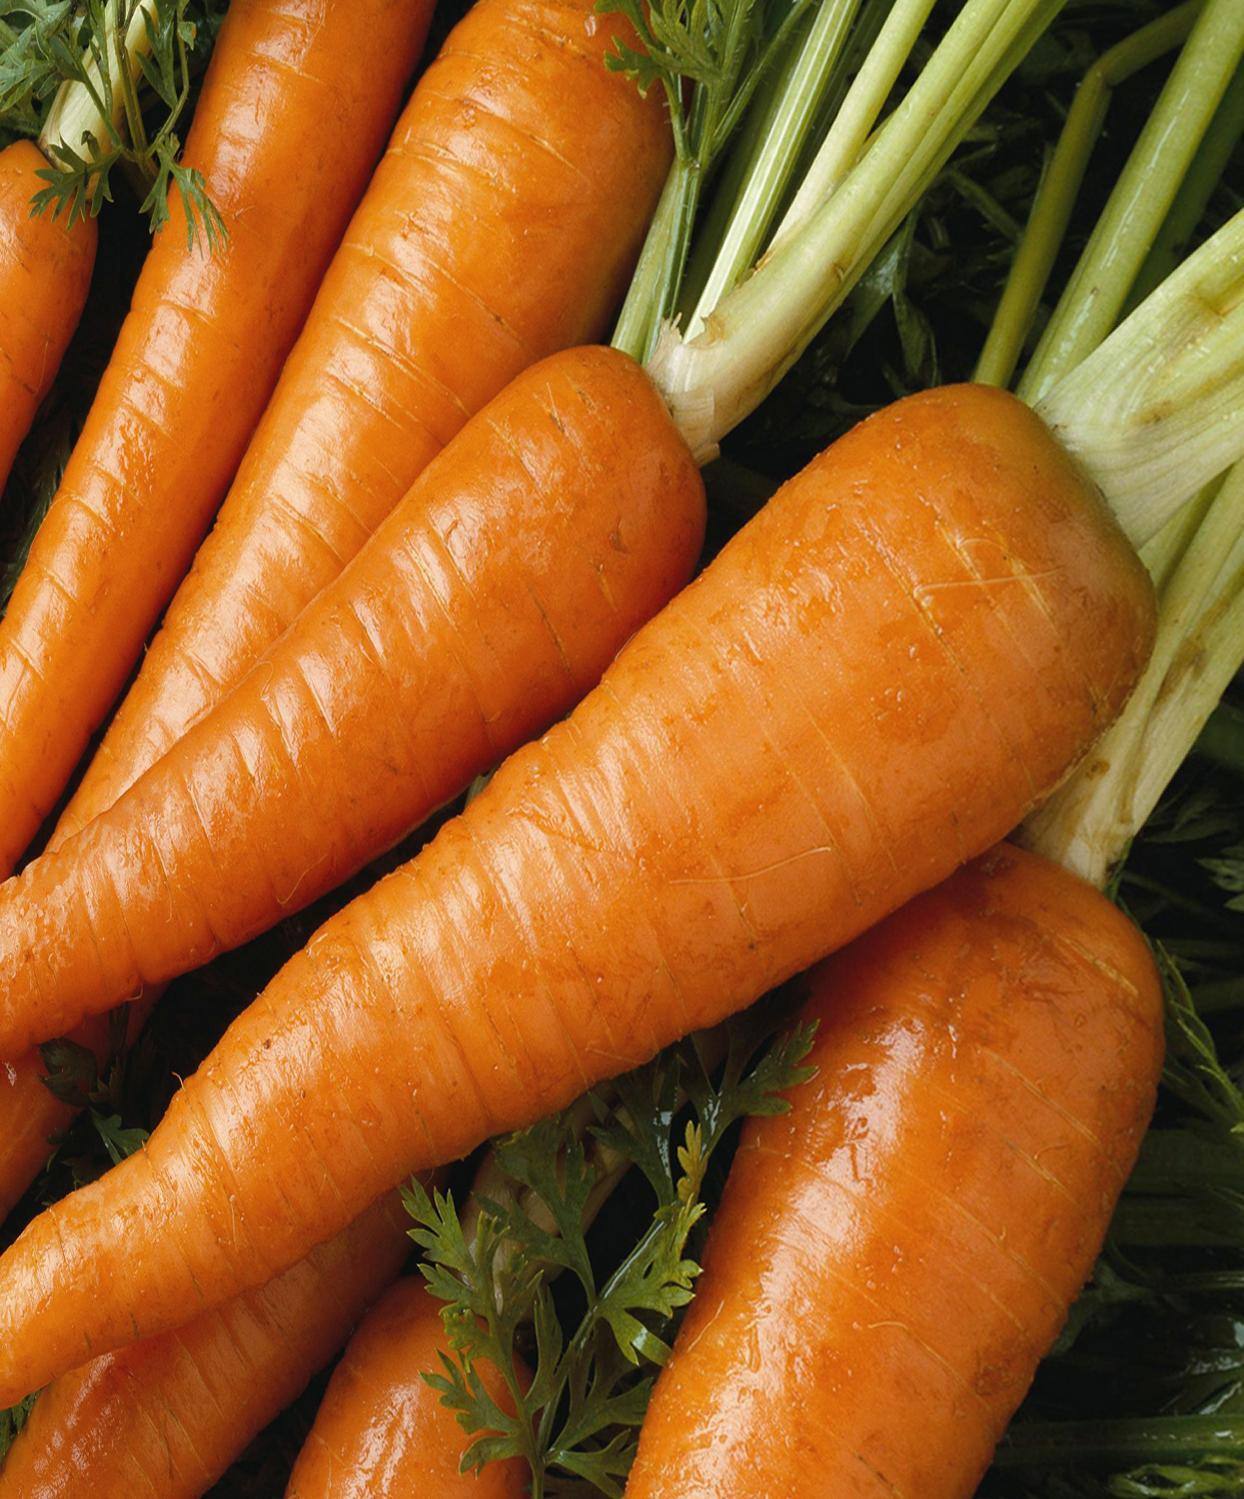carrot: (12, 2, 1202, 1499)
